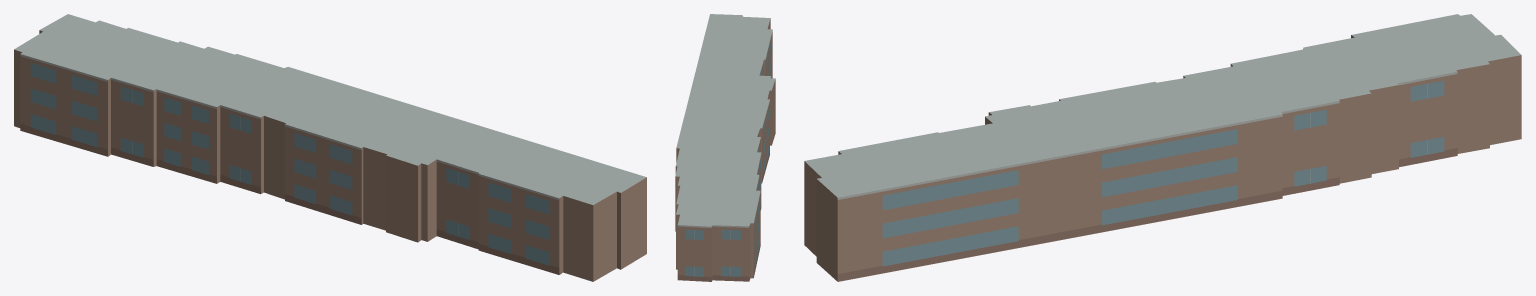
Rendered from survey-upis-32985211.glb.
The picture shows the model from 3 angles, left to right: view 1: azimuth 30°, elevation 25°; view 2: azimuth 150°, elevation 25°; view 3: azimuth 270°, elevation 25°; orthographic projection. The views are drawn at different scales.
Visible parts, largest first — view 1: survey-upis-32985211.tmp; view 2: survey-upis-32985211.tmp; view 3: survey-upis-32985211.tmp.
Boxes of the visible parts, x1,y1,x2,y2 form: survey-upis-32985211.tmp: (14,14,646,281); survey-upis-32985211.tmp: (675,14,775,281); survey-upis-32985211.tmp: (804,14,1521,281).
Size of the model in its own units: 42.89 by 9.15 by 70.7.
